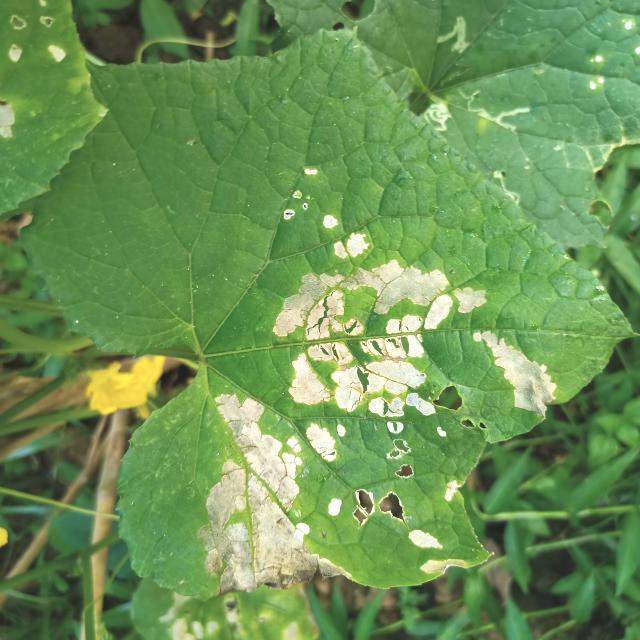disease_cucumber: (261, 165, 562, 427), (208, 392, 482, 594)
